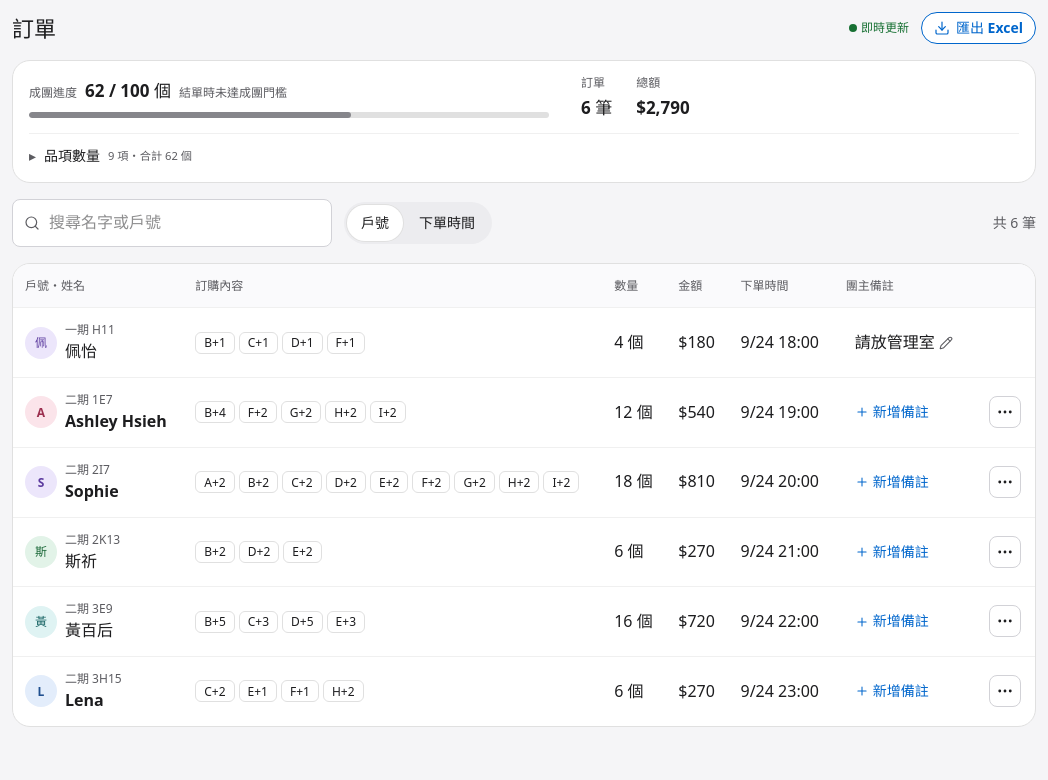
Test: OrdersSection › on a phone, where each order is a card › still offers 新增備註 once the campaign has closed and orders can no longer be cancelled
This screenshot has width=1048, height=780.
Click the button named "更多操作 1E7・" at coordinates (1006, 412), box [990,396,1022,428]
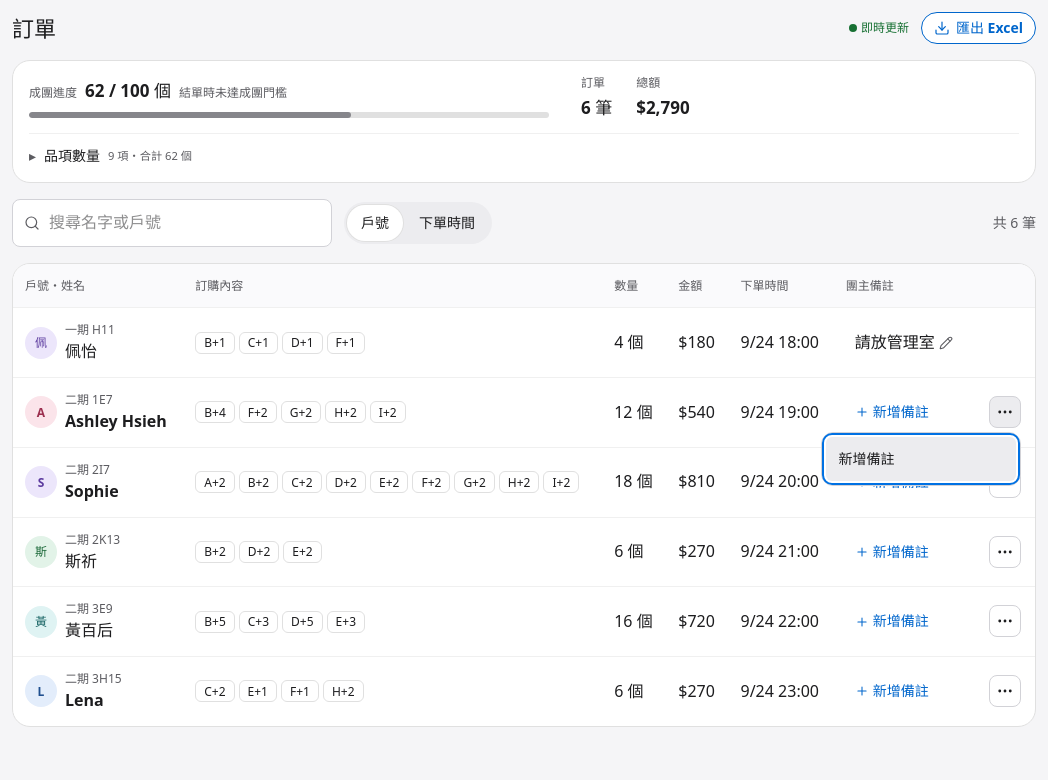
Check: the menu items read "新增備註", in this order, box [826,437,1016,481]
